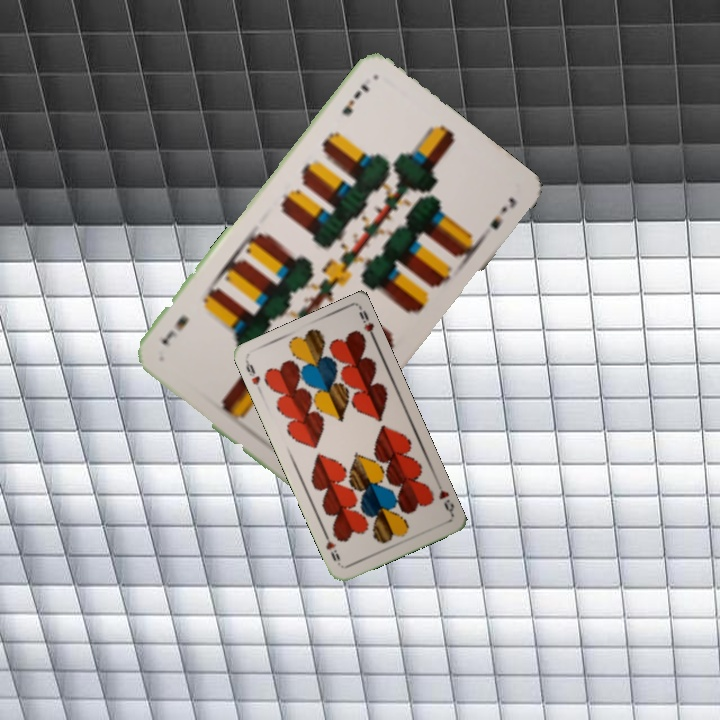E7: (338, 80, 373, 118)
H9: (433, 478, 457, 517), (242, 357, 263, 388)
